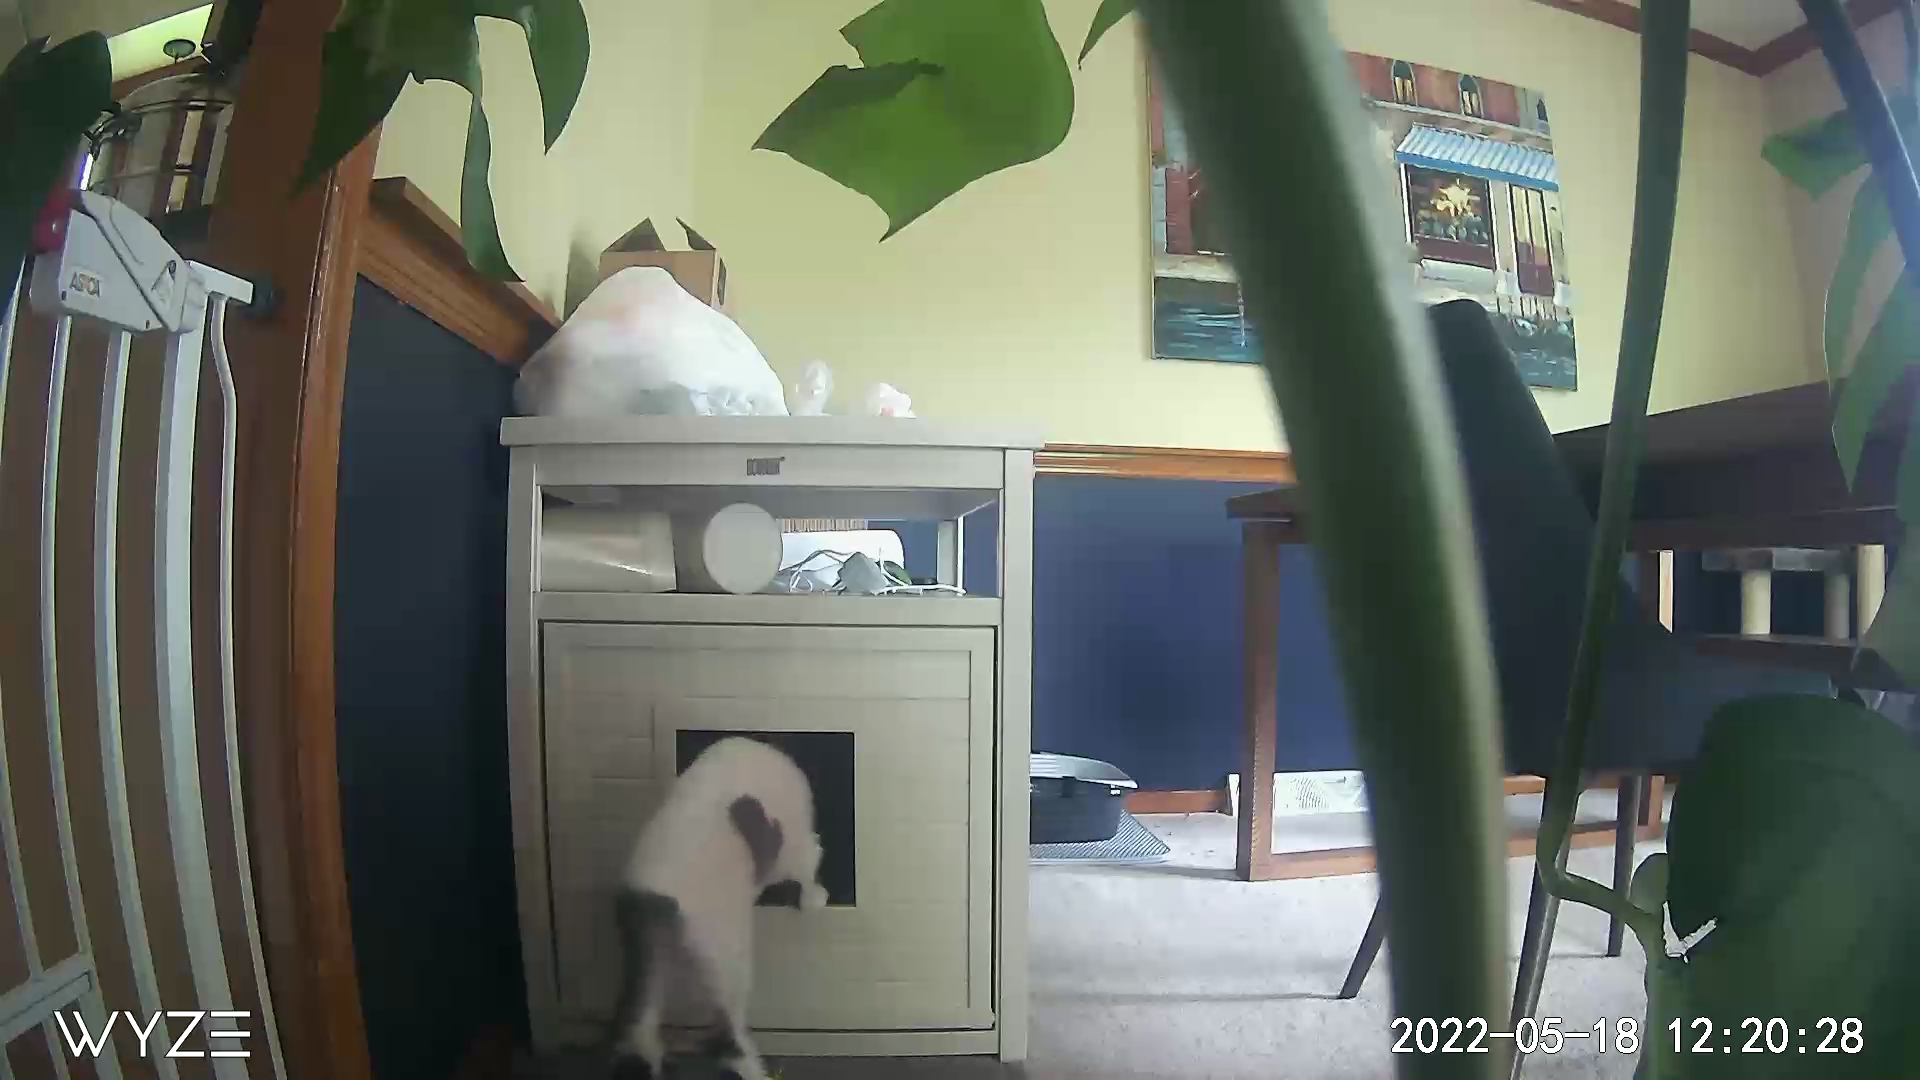maoxin: (574, 724, 837, 1064)
